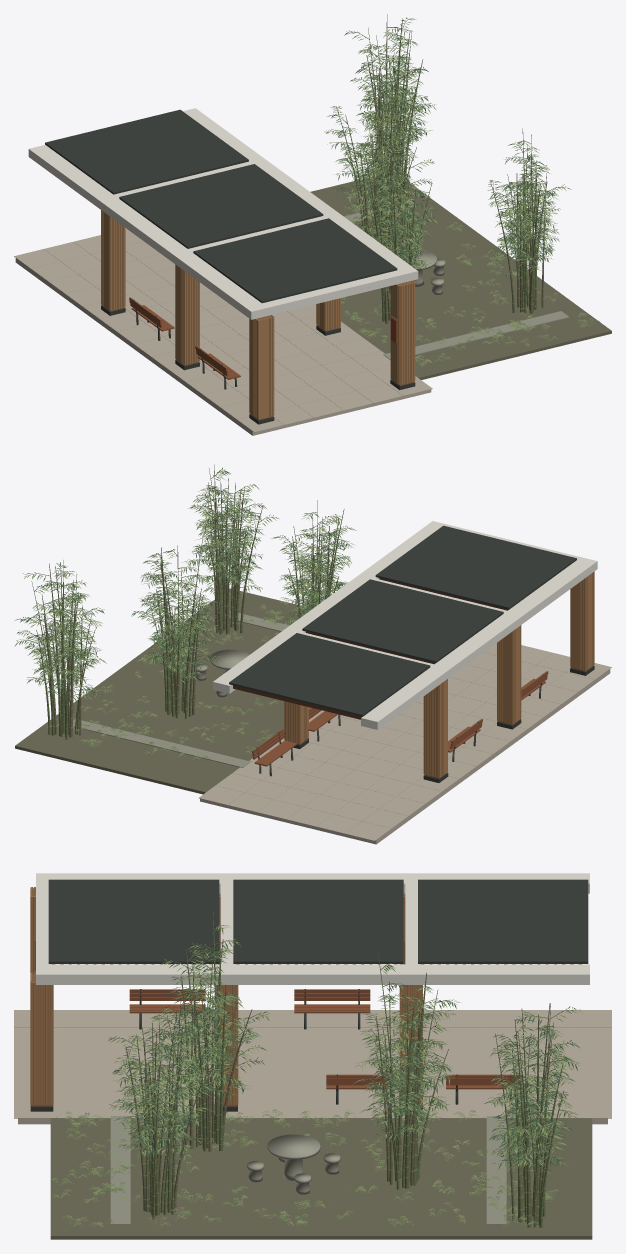
The model's file is bamboo.glb.
3 views of the same model, one above another, from view 1: azimuth 30°, elevation 25°; view 2: azimuth 150°, elevation 25°; view 3: azimuth 270°, elevation 25° (orthographic). The views are drawn at different scales.
Parts seen in each view (by area): view 1: 木饰廊 · 板底、格栅、灯盘和包柱, 竹子林 · 丛生节秆、披针形叶与石桌凳, 木条长椅 · 弯钢脚和条形靠背; view 2: 木饰廊 · 板底、格栅、灯盘和包柱, 竹子林 · 丛生节秆、披针形叶与石桌凳, 木条长椅 · 弯钢脚和条形靠背; view 3: 木饰廊 · 板底、格栅、灯盘和包柱, 竹子林 · 丛生节秆、披针形叶与石桌凳, 木条长椅 · 弯钢脚和条形靠背.
Boxes of the visible parts, <box> form: 木饰廊 · 板底、格栅、灯盘和包柱: <box>14,108,432,435</box>; 竹子林 · 丛生节秆、披针形叶与石桌凳: <box>310,14,611,379</box>; 木条长椅 · 弯钢脚和条形靠背: <box>129,297,240,389</box>; 木饰廊 · 板底、格栅、灯盘和包柱: <box>199,521,611,844</box>; 竹子林 · 丛生节秆、披针形叶与石桌凳: <box>14,464,356,794</box>; 木条长椅 · 弯钢脚和条形靠背: <box>252,671,548,776</box>; 木饰廊 · 板底、格栅、灯盘和包柱: <box>14,873,611,1124</box>; 竹子林 · 丛生节秆、披针形叶与石桌凳: <box>50,911,592,1239</box>; 木条长椅 · 弯钢脚和条形靠背: <box>129,989,521,1104</box>.
Bounding box in the file's own units: 13.04 × 5.79 × 13.99.
